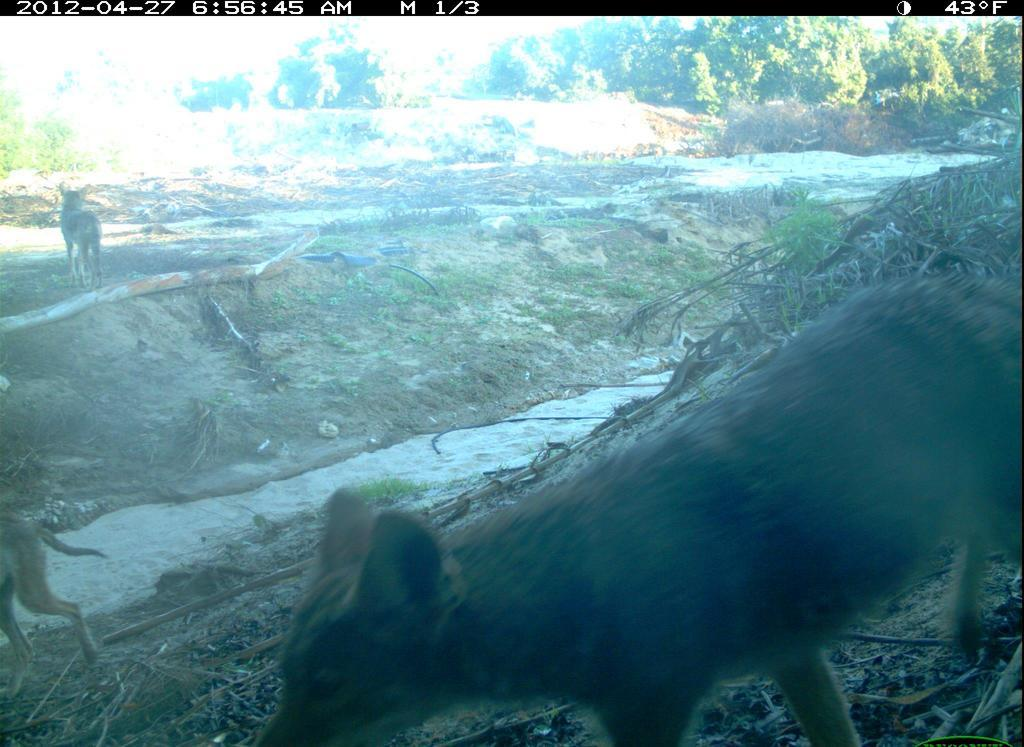coyote: (254, 273, 1023, 747), (1, 509, 121, 711), (47, 176, 118, 296)
